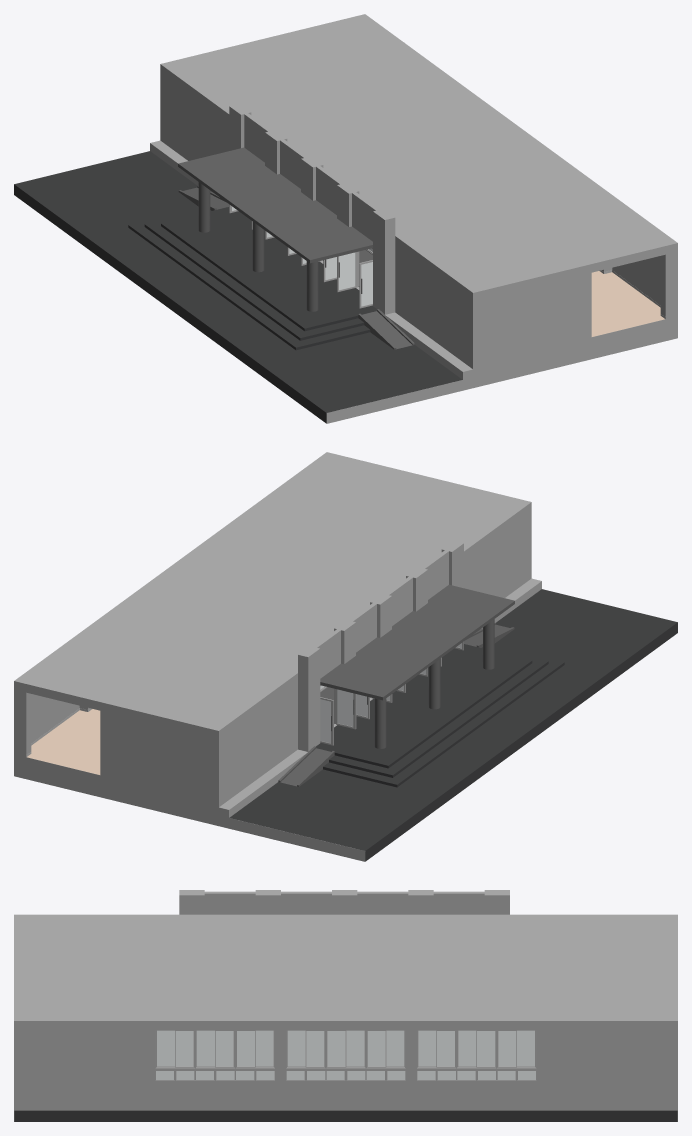
File: school_entrance.glb
3 renders of one model, top to bottom at view 1: azimuth 30°, elevation 25°; view 2: azimuth 150°, elevation 25°; view 3: azimuth 270°, elevation 25°, orthographic. The views are drawn at different scales.
Size of the model in its own units: 17.06 by 5.27 by 26.32.
